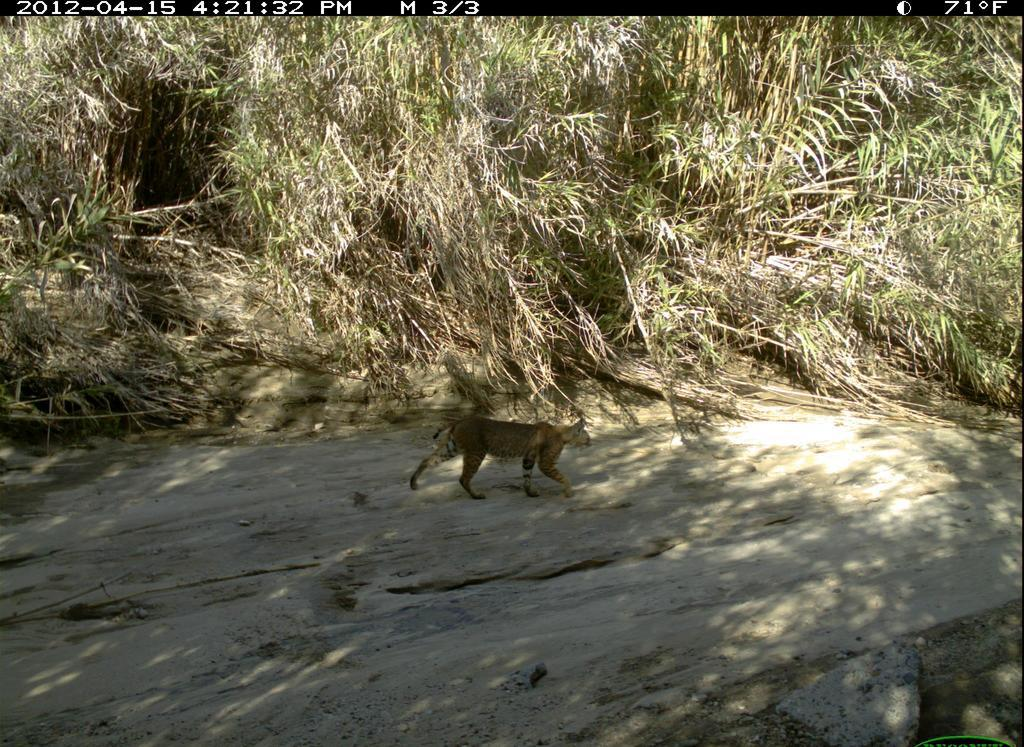bobcat: (396, 404, 611, 515)
